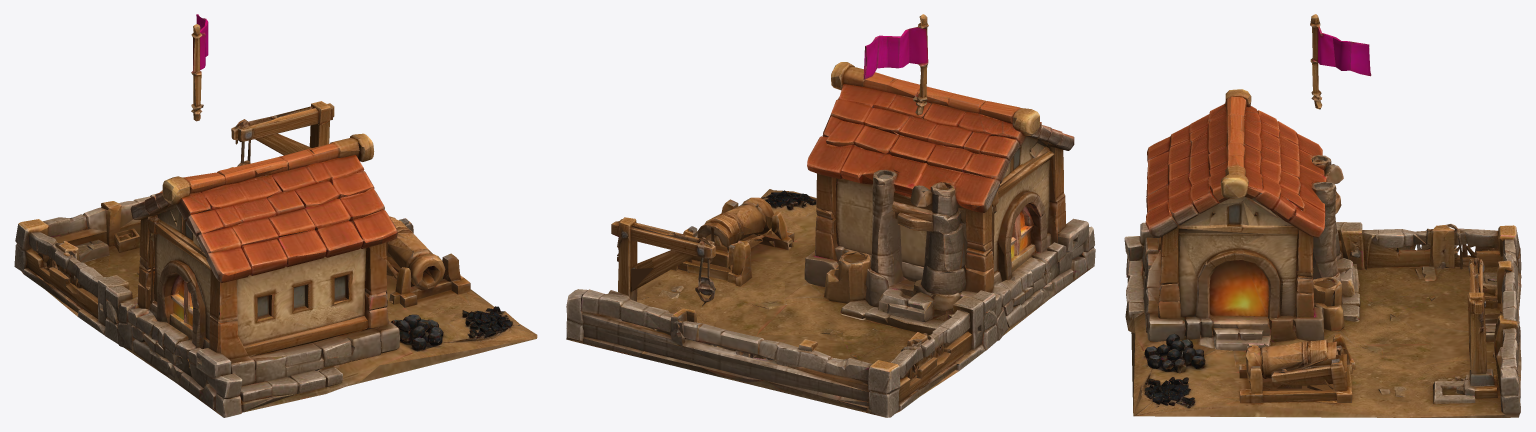
Rendered from foundry.glb.
3 renders of one model, left to right at view 1: azimuth 30°, elevation 25°; view 2: azimuth 150°, elevation 25°; view 3: azimuth 270°, elevation 25°, orthographic. The views are drawn at different scales.
Visible parts, largest first — view 1: Mesh_0; view 2: Mesh_0; view 3: Mesh_0.
Part boxes in pixels (left/top/right/bottom): Mesh_0: left=14, top=14, right=537, bottom=417; Mesh_0: left=566, top=14, right=1095, bottom=417; Mesh_0: left=1124, top=14, right=1521, bottom=417.
Size of the model in its own units: 1.71 by 1.52 by 1.9.
Materials: 1 (1 with a texture image).
